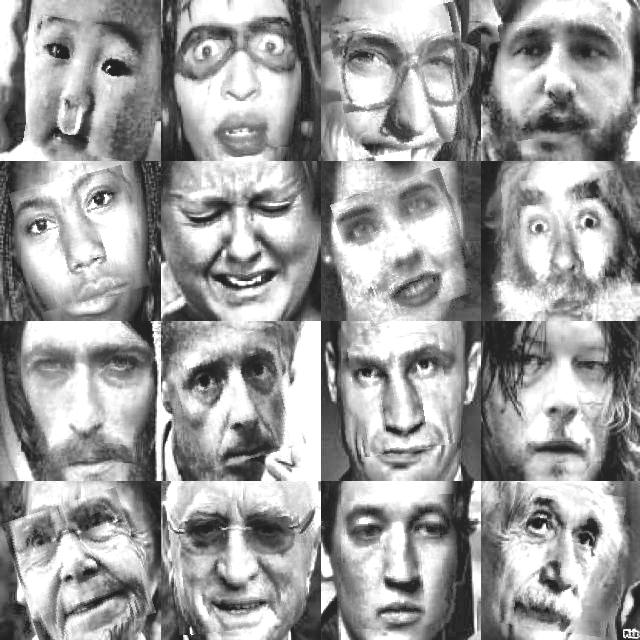fear: (504, 173, 629, 310), (185, 27, 295, 146)
happy: (333, 7, 474, 154), (10, 494, 147, 640), (339, 174, 473, 318)
neutral: (169, 497, 306, 632), (502, 486, 622, 634), (16, 171, 144, 307), (175, 332, 300, 466), (24, 332, 150, 462), (502, 11, 627, 137), (347, 495, 462, 628), (351, 337, 451, 454)
sad: (27, 19, 148, 158), (184, 190, 310, 301)
